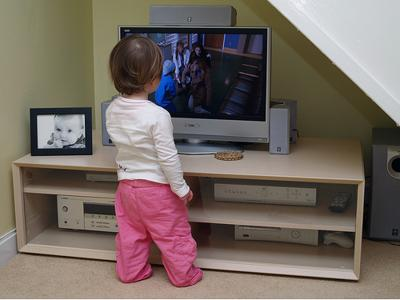person: (105, 36, 202, 289)
